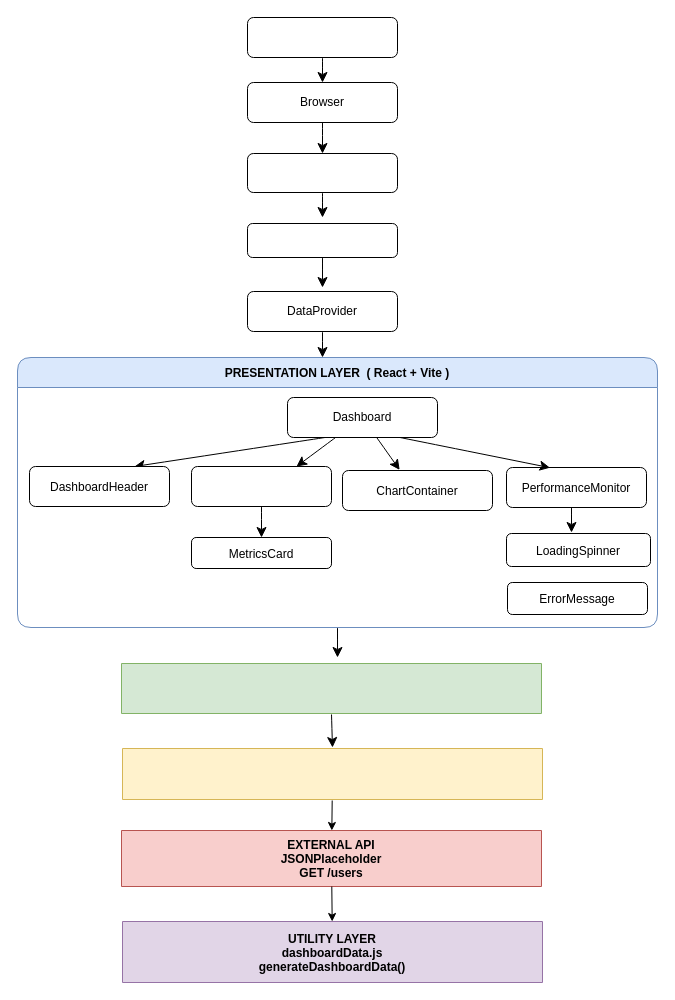
The diagram is 675 pixels wide and 1000 high, and some of its shapes have lost their labels. The shapes that lost their labels are listed below. From the top down, each one's centre as x and y in pixels, then its label:
At point 322,37: "USER".
At point 322,172: "App.jsx".
At point 322,240: "Error Boundary".
At point 261,486: "MetricsGrid".
At point 331,688: "STATE MANAGEMENT (Context API) DataContext".
At point 332,774: "SERVICE LAYER (API Communication) DataManager".
